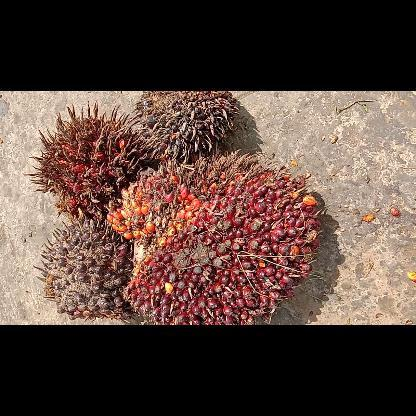Kurang masak: (35, 220, 131, 318)
TBS abnormal: (132, 91, 240, 161)
TBS masak: (106, 152, 322, 324)
Terlalu masak: (26, 100, 148, 216)
